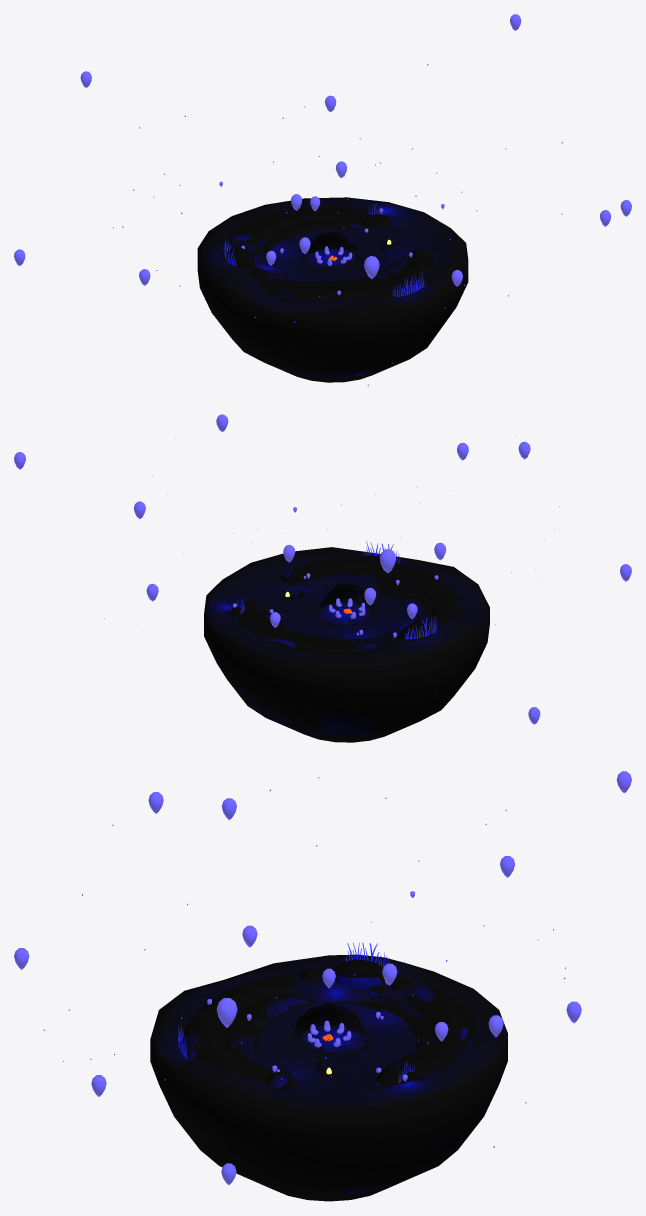
3 renders of one model, top to bottom at view 1: azimuth 30°, elevation 25°; view 2: azimuth 150°, elevation 25°; view 3: azimuth 270°, elevation 25°, orthographic. The views are drawn at different scales.
Parts seen in each view (by area): view 1: lodge.009; view 2: lodge.009; view 3: lodge.009.
Boxes of the visible parts, bbox=[...] form: lodge.009: bbox=[197, 197, 468, 382]; lodge.009: bbox=[204, 547, 489, 742]; lodge.009: bbox=[150, 954, 507, 1201].
Bounding box in the file's own units: 26.77 × 12.21 × 21.77.
Materials: 7 (2 with a texture image).
